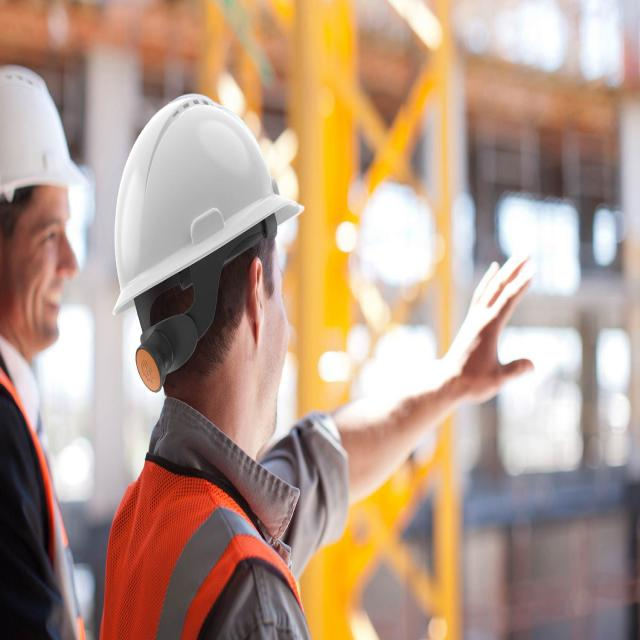Reflective-Jacket: (99, 415, 299, 640), (0, 305, 87, 640)
Safety-Helmet: (108, 87, 302, 308), (0, 59, 88, 210)
